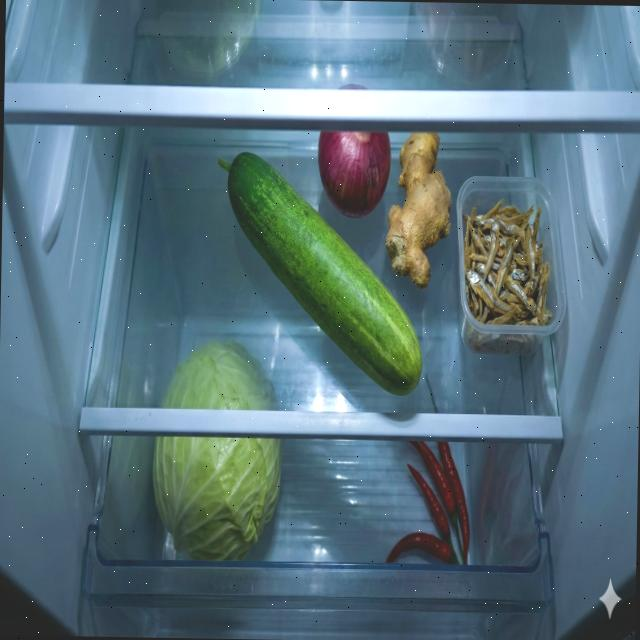anchovies: (460, 196, 554, 354)
cabbage: (150, 334, 284, 565)
chili: (386, 433, 472, 570)
cucumber: (212, 146, 427, 396)
ginger: (384, 127, 452, 293)
onion: (316, 124, 392, 220)
